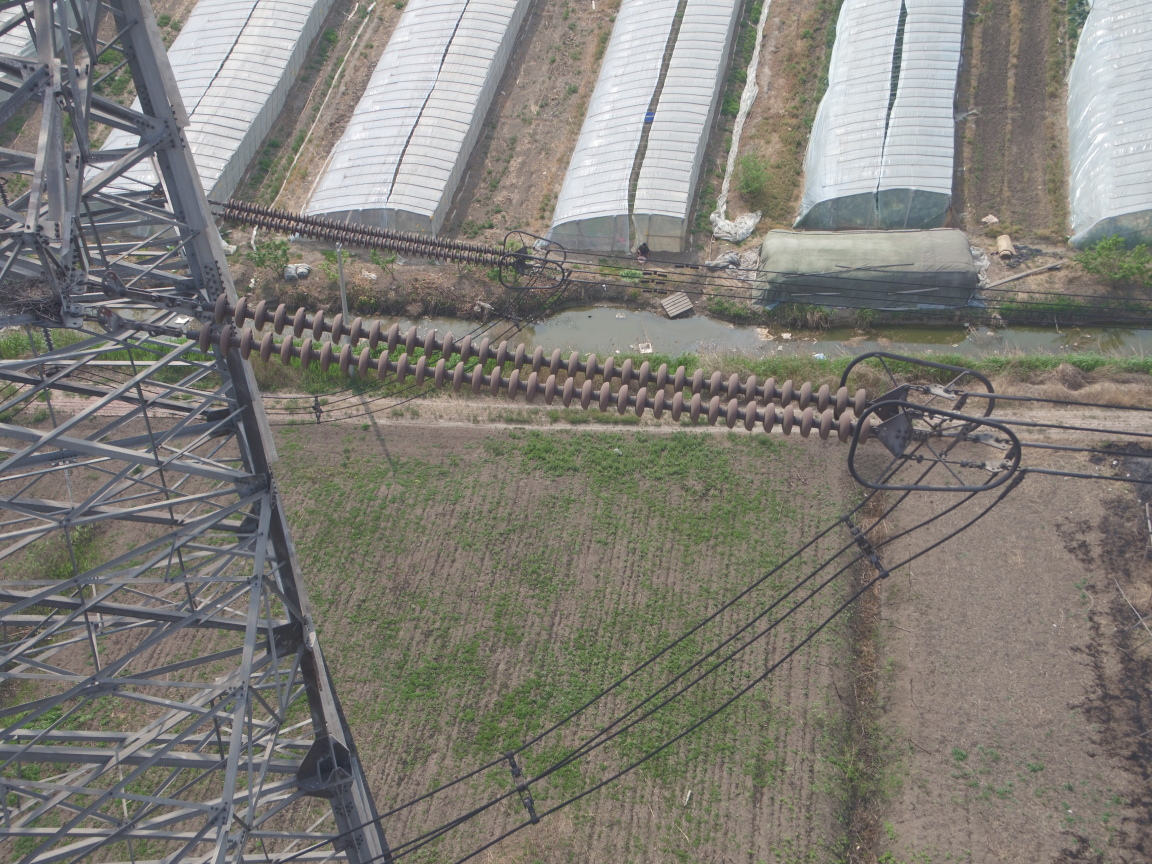insulator: (161, 288, 895, 445), (208, 198, 519, 271)
